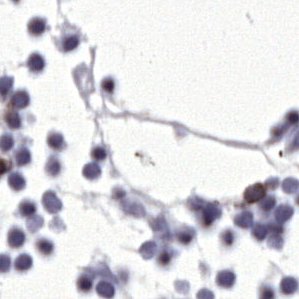Lymphocyte: (244, 181, 265, 204)
